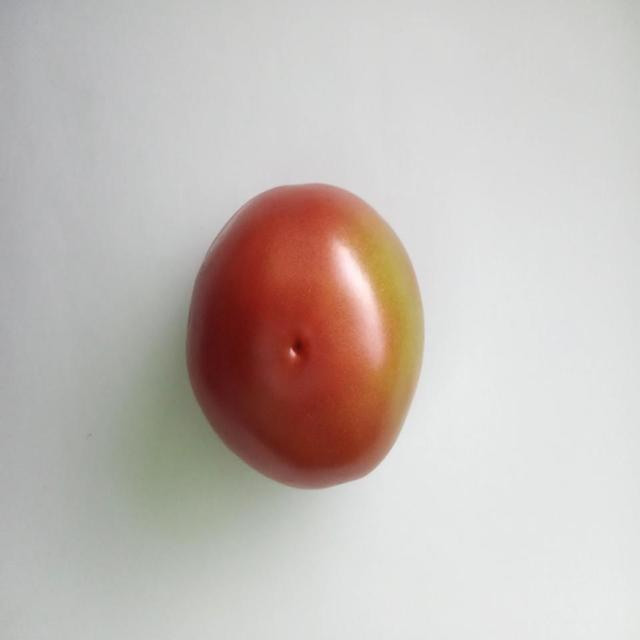Healthy Fruit: (122, 118, 286, 330)
